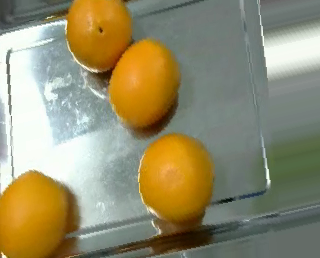Orange: (139, 133, 215, 220), (107, 37, 180, 126), (0, 168, 69, 257), (65, 1, 130, 72)
